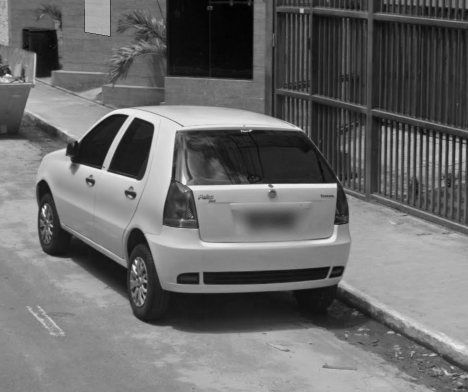car: (31, 98, 356, 329)
